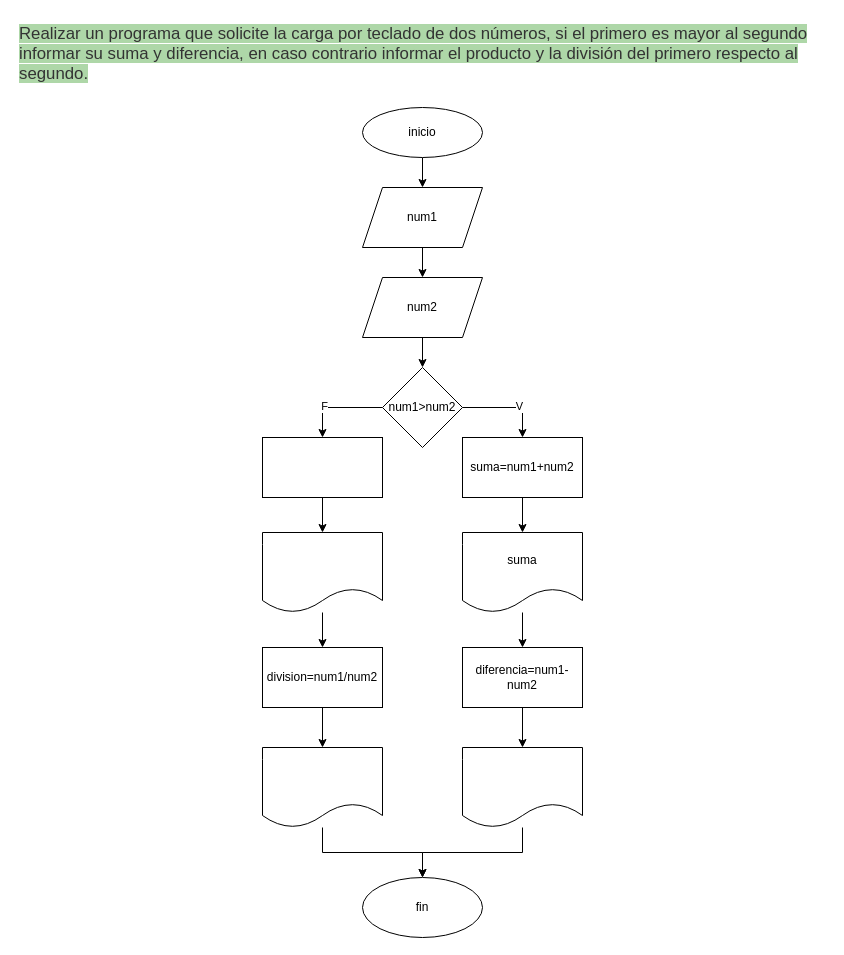
The diagram is 844 pixels wide and 955 high, and some of its shapes have lost their labels. The shapes that lost their labels are listed below. From the top down, each one's centre as x and y in pixels, then its label:
At point 322,467: "producto=num1*num2".
At point 322,572: "producto".
At point 322,787: "division".
At point 522,787: "diferencia".
